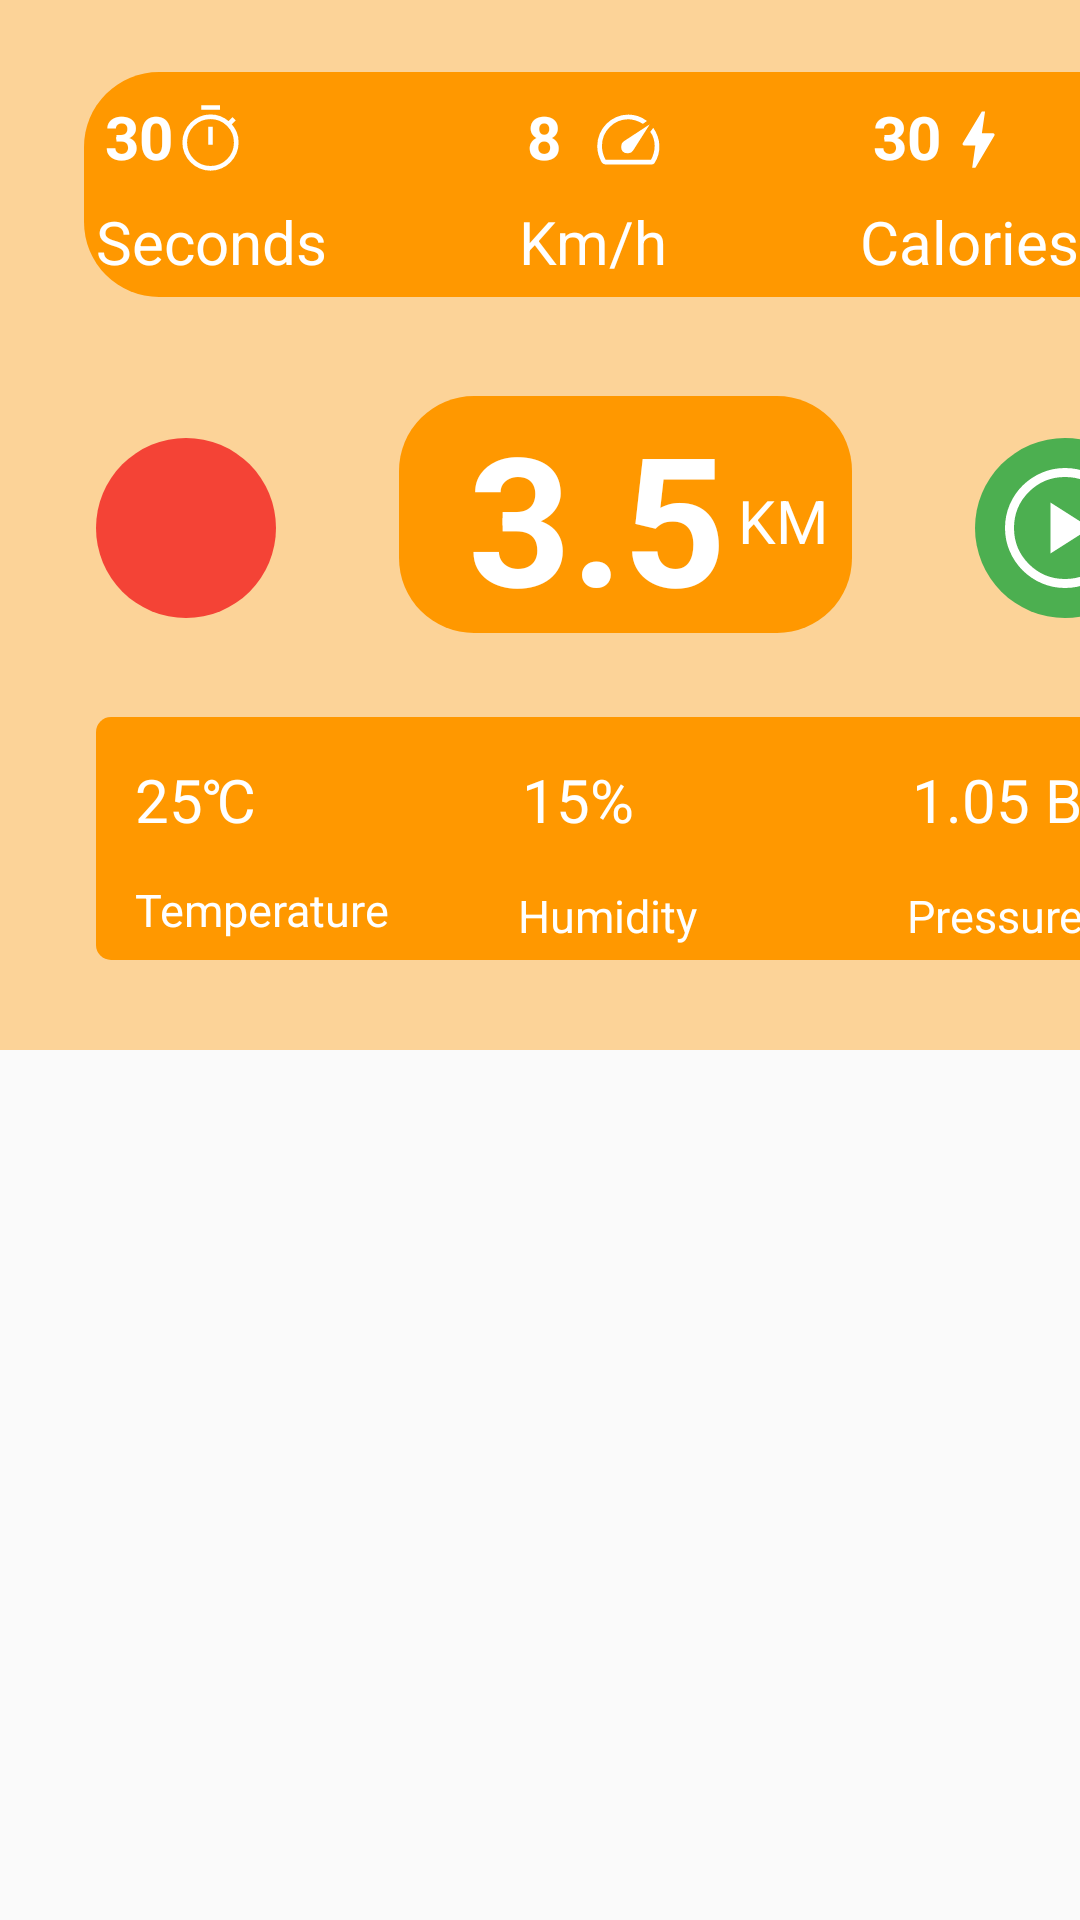

Named icons in this screenshot (1080px×1920px) and their bounding boxes, bbox=[x1, y1, x2, y2]:
energy: bbox=[962, 111, 995, 168]
speed: bbox=[597, 114, 660, 165]
timer: bbox=[182, 105, 239, 171]
